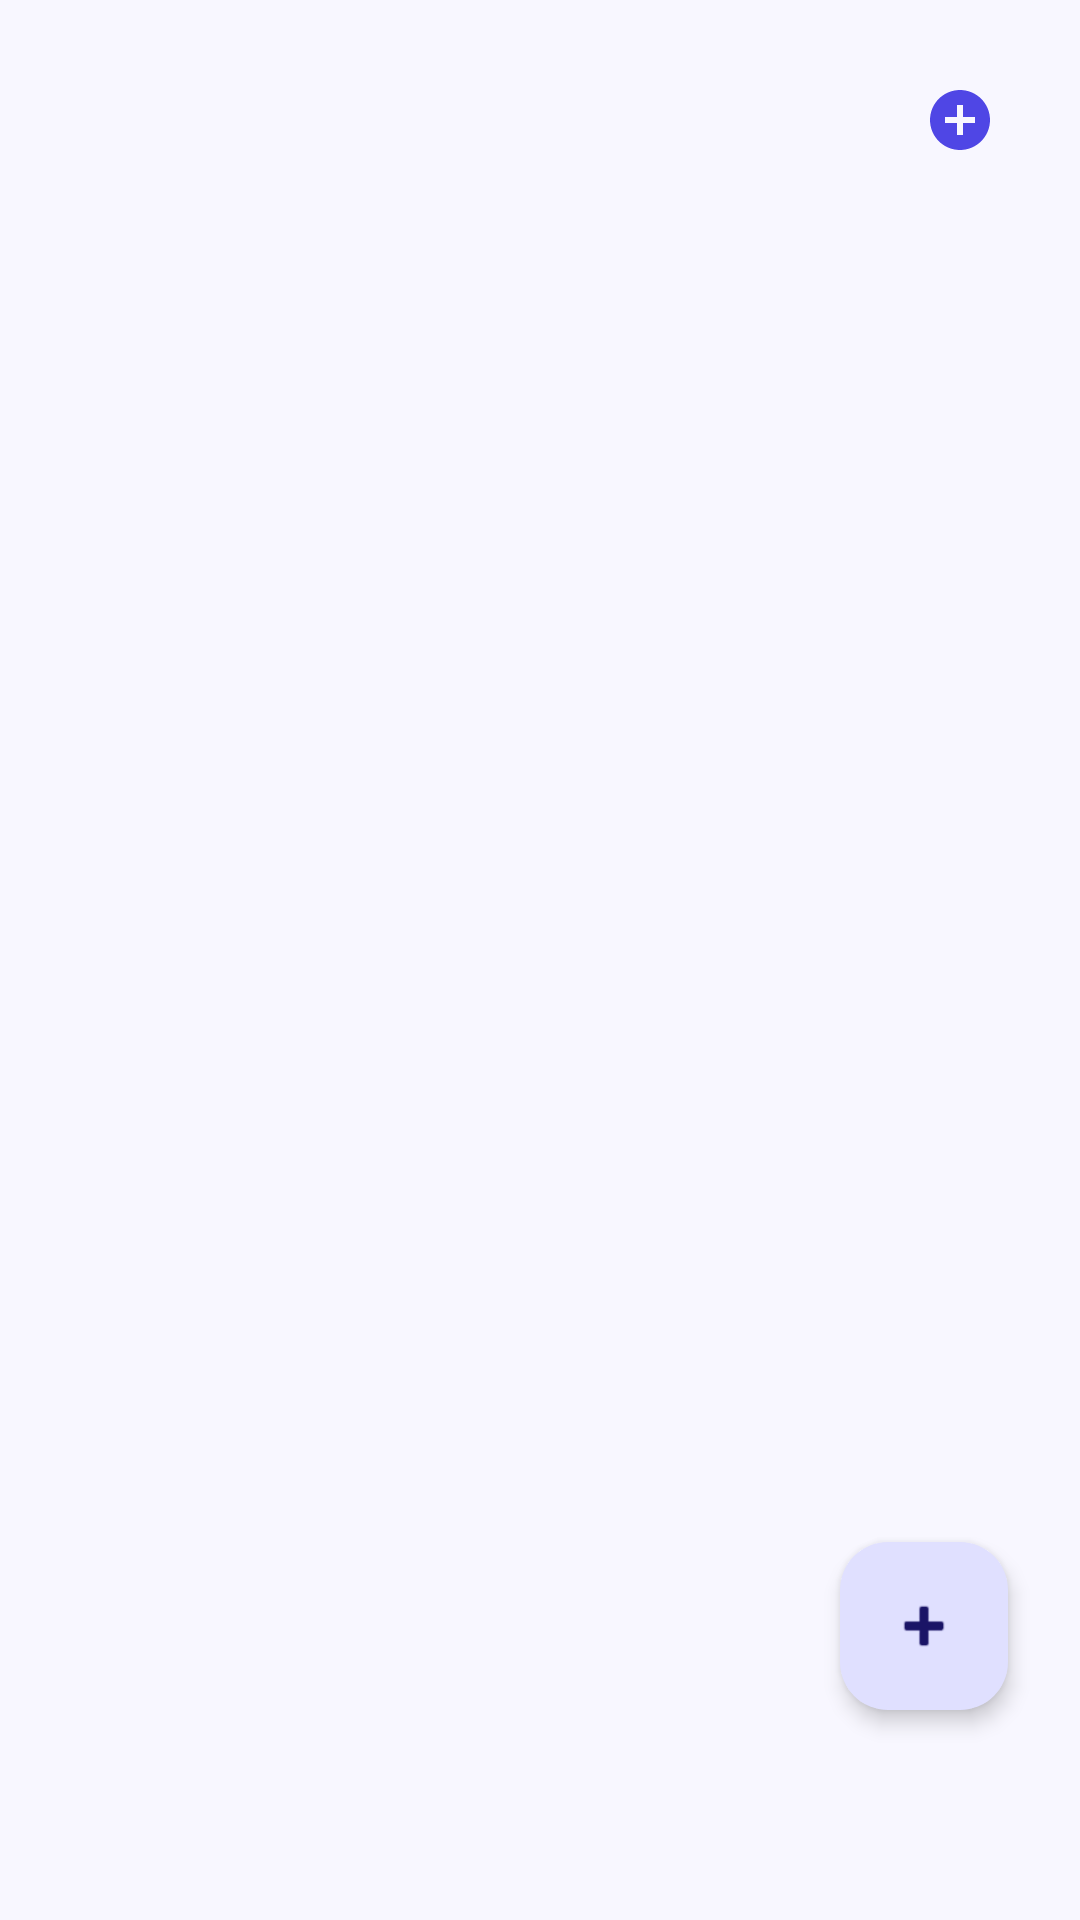

Icon bounding boxes for this 1080px x 1920px phone screenshot, format [x1, y1, x2, y2]:
Add new list: [930, 90, 990, 150]
Add Task: [840, 1542, 1008, 1710]
